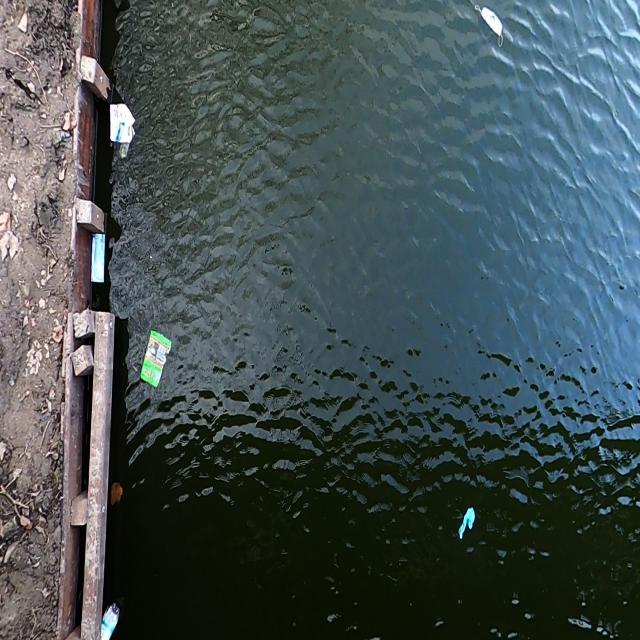Autre plastique: (137, 327, 173, 394)
Non plastique: (470, 1, 508, 53)
